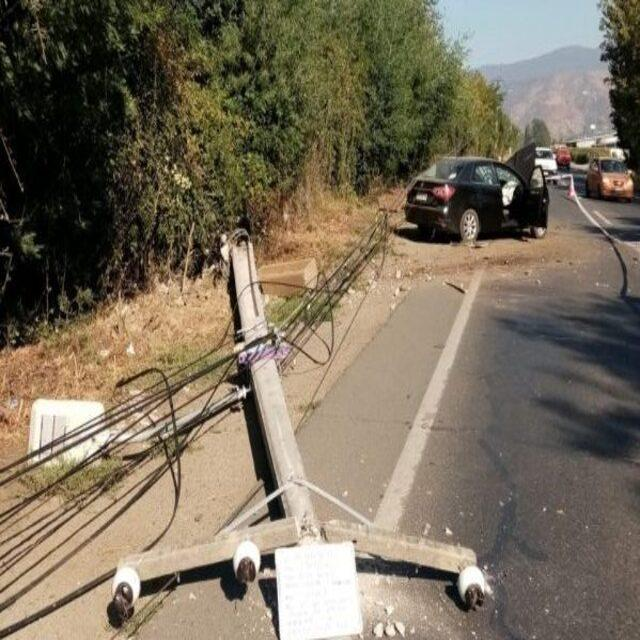Inclined Pole: (107, 230, 494, 640)
